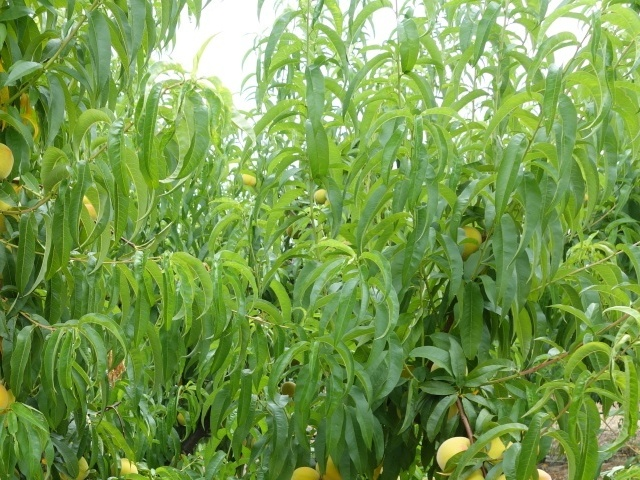peach: (435, 431, 478, 471), (458, 221, 485, 258), (276, 377, 299, 402), (310, 185, 330, 207)
